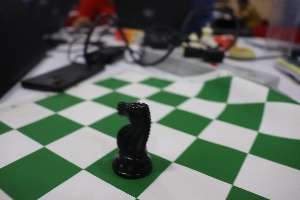black_horse: (100, 88, 163, 182)
